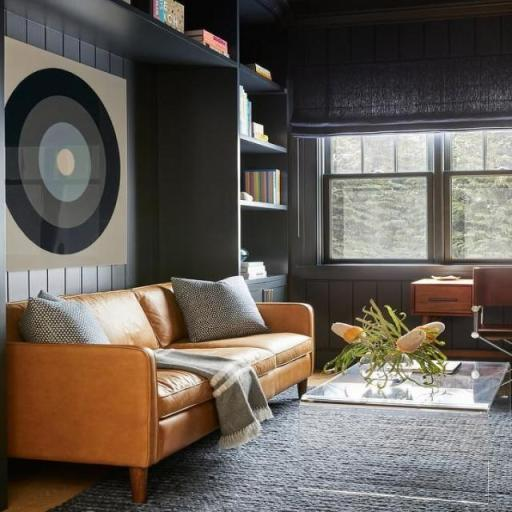sofa: (2, 266, 338, 482)
